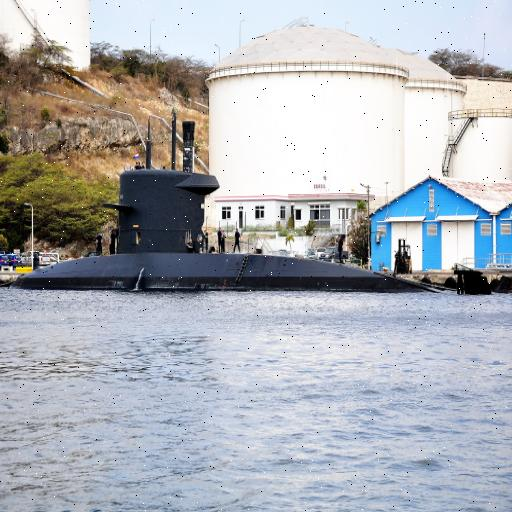submarine: (10, 107, 453, 287)
